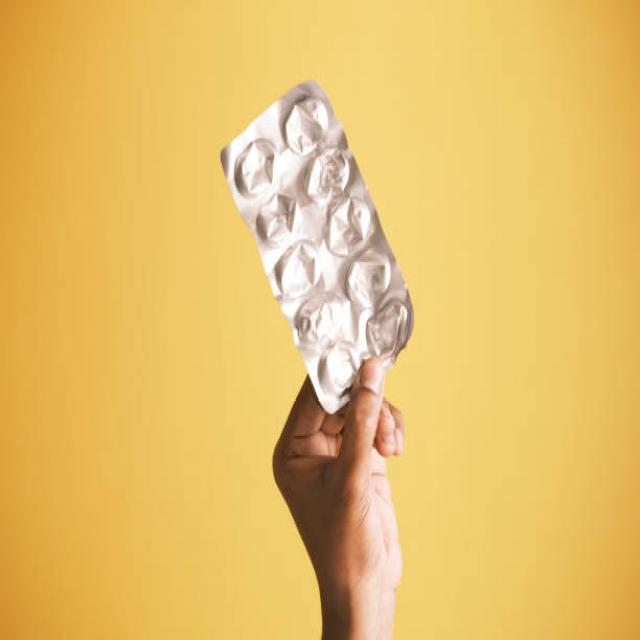Empty: (264, 221, 337, 318), (228, 123, 293, 217), (339, 234, 405, 324), (274, 86, 341, 173), (297, 137, 364, 224), (322, 185, 385, 277), (247, 178, 316, 261), (291, 281, 356, 364), (362, 282, 418, 369), (314, 328, 367, 411)
